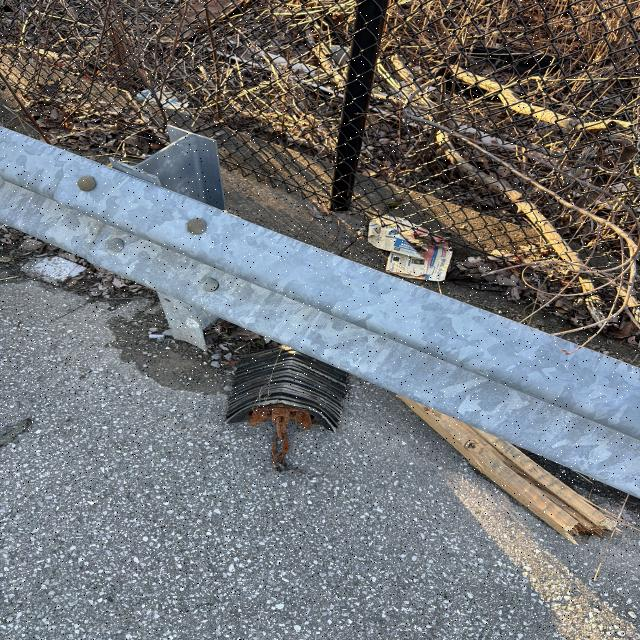Guard rail: (6, 144, 616, 454)
